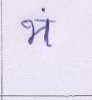anusvara: (42, 8, 45, 12)
